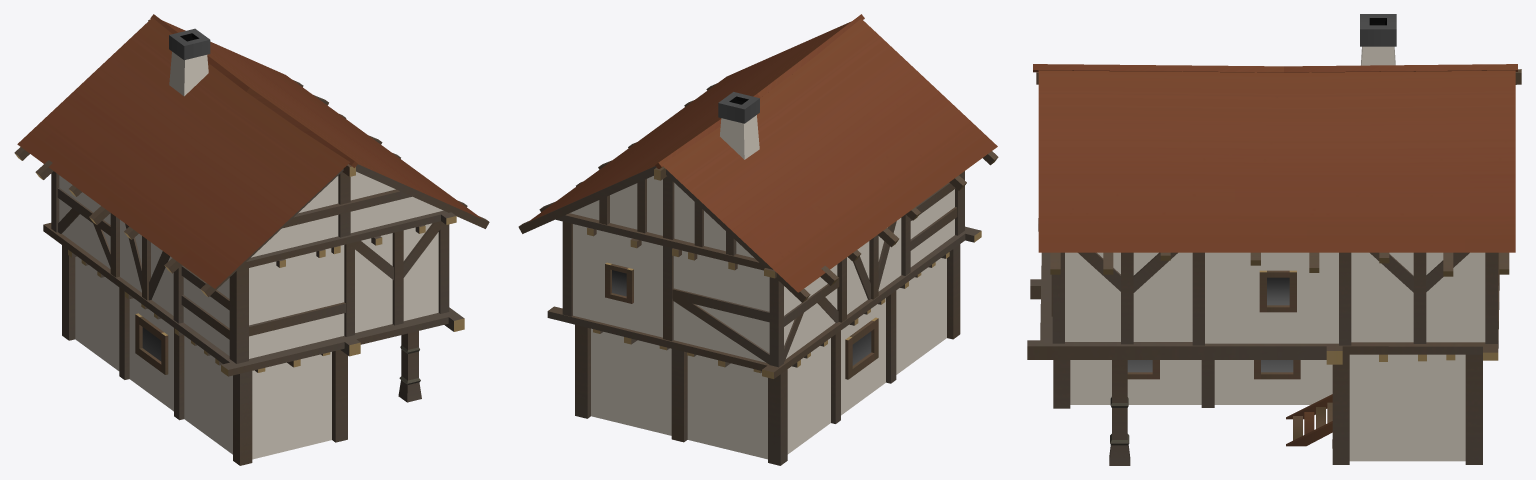
File: House_4_LOD1.fbx
3 views of the same model, side by side, from view 1: azimuth 30°, elevation 25°; view 2: azimuth 150°, elevation 25°; view 3: azimuth 270°, elevation 25° (orthographic). The views are drawn at different scales.
Parts seen in each view (by area): view 1: polySurface9613; view 2: polySurface9613; view 3: polySurface9613.
Part boxes in pixels (left/top/right/bottom): polySurface9613: left=14, top=14, right=489, bottom=465; polySurface9613: left=518, top=14, right=998, bottom=465; polySurface9613: left=1027, top=14, right=1521, bottom=465.
Size of the model in its own units: 832 by 836 by 1003.
